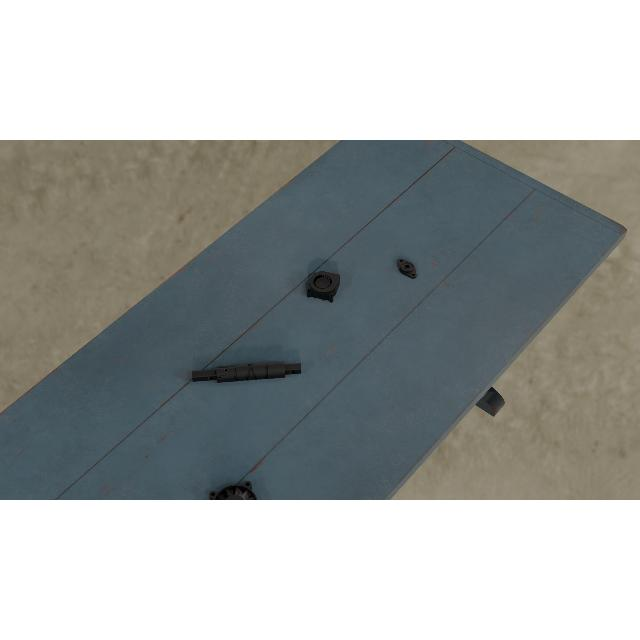Pieza1: (192, 357, 302, 388)
Pieza2: (392, 254, 422, 282)
Pieza3: (306, 268, 340, 304)
Pieza4: (208, 480, 264, 500)
